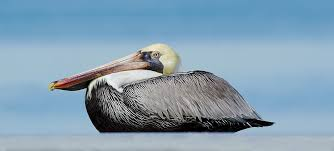pelican: (48, 43, 275, 132)
